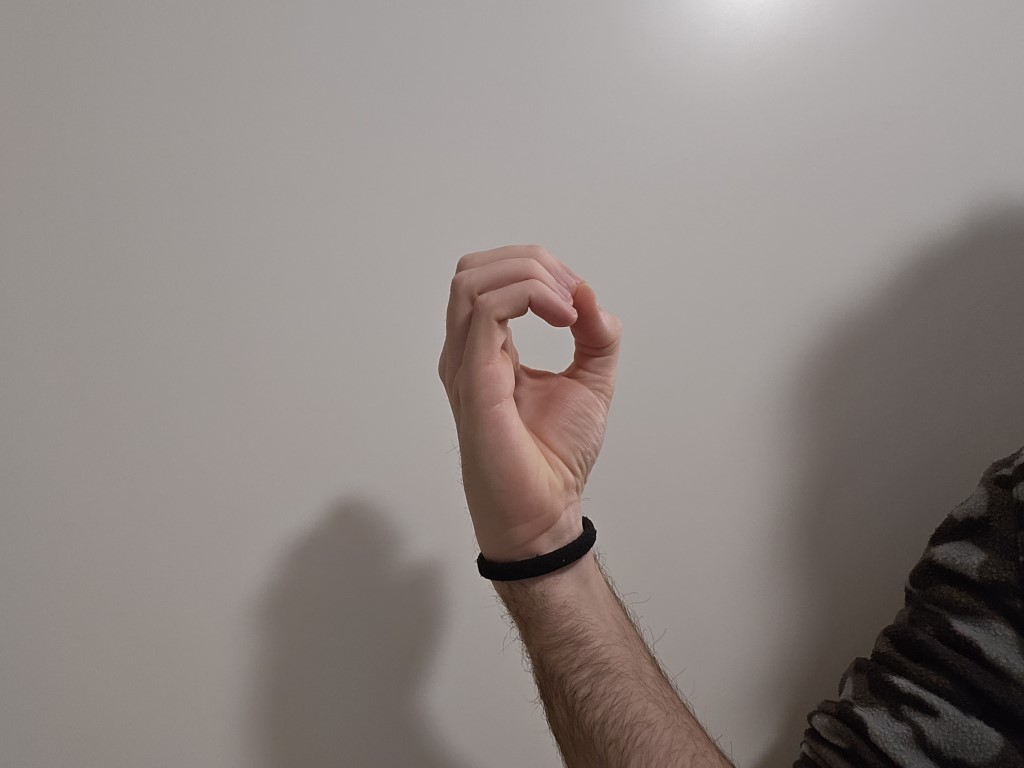o: (401, 226, 641, 535)
